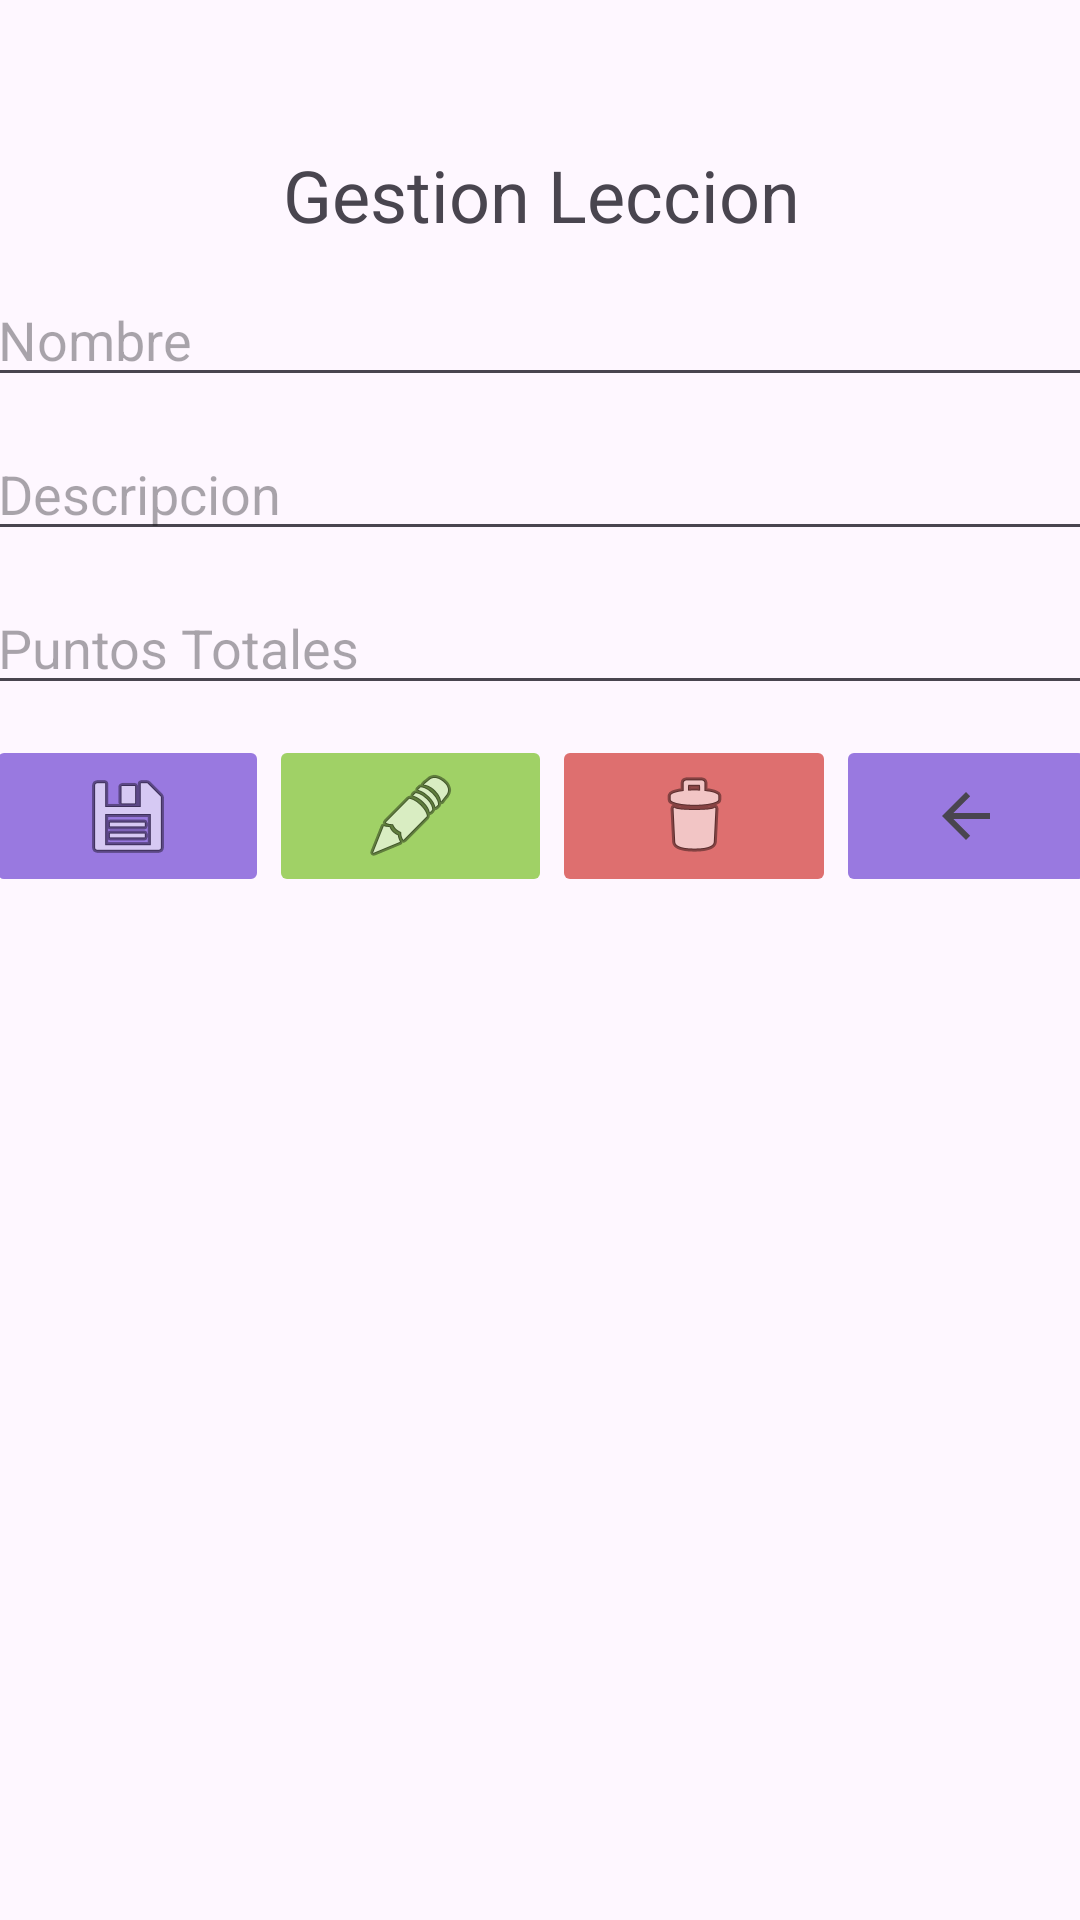

Screen size 1080x1920. Icon name, then its center in pixels as (x=x, y=y):
delete: (x=694, y=816)
edit: (x=410, y=816)
save: (x=128, y=816)
